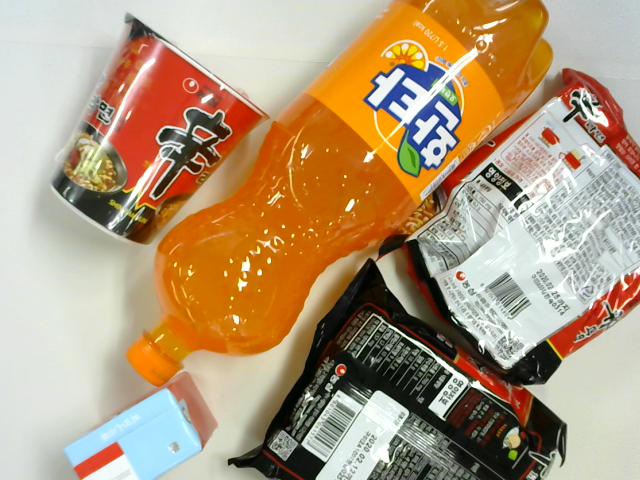Hwanta_Orange_1.5L: (127, 1, 555, 387)
Picnic_Apple: (65, 371, 218, 480)
Sinramen: (376, 68, 640, 387)
Sinramen_Black: (228, 257, 571, 480)
Sinramen_small: (46, 13, 273, 247)
